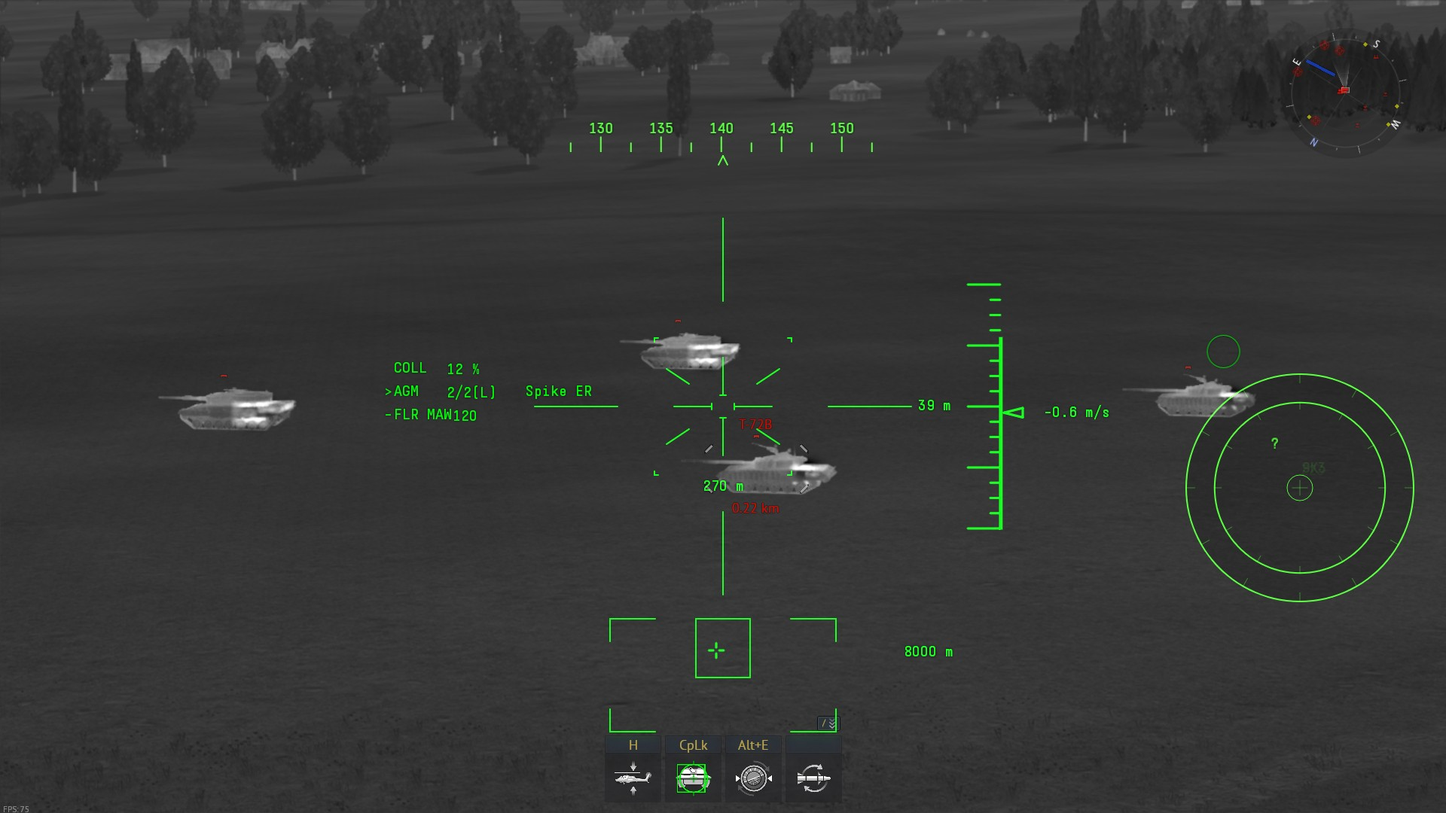leopard2: (158, 389, 296, 431), (619, 333, 740, 370)
t72b: (679, 443, 838, 494), (1122, 375, 1256, 417)
